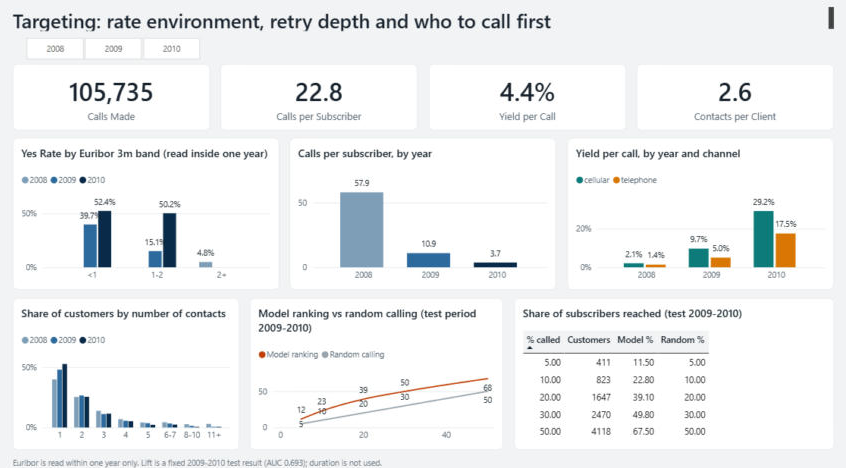

This screenshot's page, from the dashboard's own definition file:
{"tool":"powerbi","page":{"name":"3 Targeting","canvas":[1280,720],"ordinal":2},"visuals":[{"type":"textbox","box":[24.2,0,1231.6,48.4],"z":0},{"type":"slicer","fields":{"Values":["bank_clean.year"]},"box":[24,56,300,36],"z":1000},{"type":"card","fields":{"Values":["_Measures.Calls Made"]},"box":[24,96,296,100],"z":2000},{"type":"card","fields":{"Values":["_Measures.Calls per Subscriber"]},"box":[336,96,296,100],"z":3000},{"type":"card","fields":{"Values":["_Measures.Yield per Call"]},"box":[648,96,296,100],"z":4000},{"type":"card","fields":{"Values":["_Measures.Contacts per Client"]},"box":[960,96,296,100],"z":5000},{"type":"clusteredColumnChart","title":"Yes Rate by Euribor 3m band (read inside one year)","fields":{"Category":["bank_clean.euribor_band"],"Series":["bank_clean.year"],"Y":["_Measures.Yes Rate"]},"box":[24,208,400,228],"z":6000},{"type":"clusteredColumnChart","title":"Calls per subscriber, by year","fields":{"Category":["bank_clean.year"],"Y":["_Measures.Calls per Subscriber"]},"box":[440,208,400,228],"z":7000},{"type":"clusteredColumnChart","title":"Yield per call, by year and channel","fields":{"Category":["bank_clean.year"],"Series":["bank_clean.contact"],"Y":["_Measures.Yield per Call"]},"box":[856,208,400,228],"z":8000},{"type":"clusteredColumnChart","title":"Share of customers by number of contacts","fields":{"Category":["bank_clean.campaign_band"],"Series":["bank_clean.year"],"Y":["_Measures.Share of Year Customers"]},"box":[24,448,340,228],"z":9000},{"type":"lineChart","title":"Model ranking vs random calling (test period 2009-2010)","fields":{"Category":["model_gains.share_of_customers_called_pct"],"Y":["Max(model_gains.model_share_of_subscribers_pct)","Max(model_gains.random_share_of_subscribers_pct)"]},"box":[380,448,380,228],"z":10000},{"type":"tableEx","title":"Share of subscribers reached (test 2009-2010)","fields":{"Values":["model_gains.share_of_customers_called_pct","model_gains.customers_called","model_gains.model_share_of_subscribers_pct","model_gains.random_share_of_subscribers_pct"]},"box":[776,448,480,228],"z":11000},{"type":"textbox","box":[24,684,1232,28],"z":12000}]}

Visuals, with their boxes in screenshot pixels (x1, y1, x2, y2), scaled from the page's 1280x720 canvas onto the 846x468 screenshot:
textbox: crop(16, 0, 830, 31)
slicer - bank_clean.year: crop(16, 36, 214, 60)
card - _Measures.Calls Made: crop(16, 62, 212, 127)
card - _Measures.Calls per Subscriber: crop(222, 62, 418, 127)
card - _Measures.Yield per Call: crop(428, 62, 624, 127)
card - _Measures.Contacts per Client: crop(634, 62, 830, 127)
"Yes Rate by Euribor 3m band (read inside one year)" clusteredColumnChart: crop(16, 135, 280, 283)
"Calls per subscriber, by year" clusteredColumnChart: crop(291, 135, 555, 283)
"Yield per call, by year and channel" clusteredColumnChart: crop(566, 135, 830, 283)
"Share of customers by number of contacts" clusteredColumnChart: crop(16, 291, 241, 439)
"Model ranking vs random calling (test period 2009-2010)" lineChart: crop(251, 291, 502, 439)
"Share of subscribers reached (test 2009-2010)" tableEx: crop(513, 291, 830, 439)
textbox: crop(16, 445, 830, 463)
